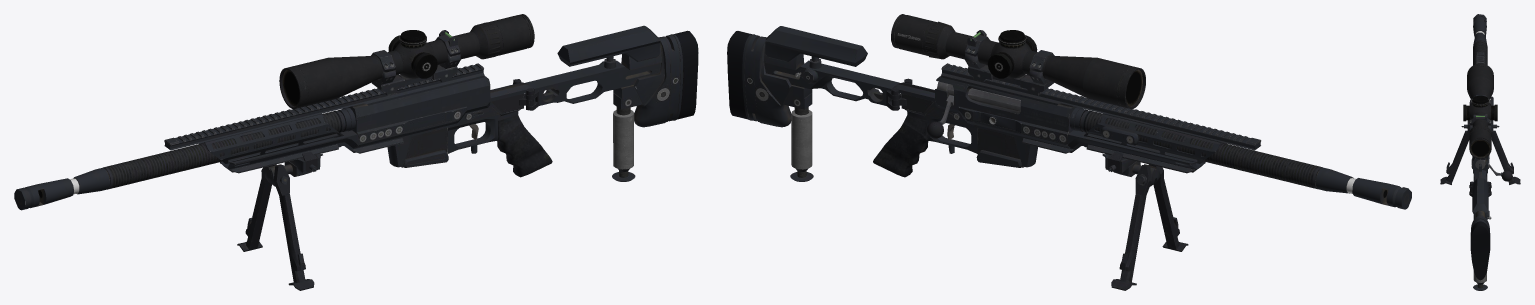
File: silah_pgm.glb
3 renders of one model, left to right at view 1: azimuth 30°, elevation 25°; view 2: azimuth 150°, elevation 25°; view 3: azimuth 270°, elevation 25°, orthographic. The views are drawn at different scales.
Visible parts, largest first — view 1: 03_BackParts_low_4k.004_03_BackParts_low_4k.001_0, 02_MainBody_low_4k.004_02_MainBody_low_4k.001_0, 05_Scope_low_4K.004_05_Scope_low_4K.001_0, 01_GripMagazine_low_4k.004_01_GripMagazine_low_4k.001_0, 04_Barrel_Grid_low_4k.008_04_BarrelRail_low_4k.002_0, 06_SmallParts_low_2k.008_06_SmallParts_low_2k.003_0; view 2: 02_MainBody_low_4k.004_02_MainBody_low_4k.001_0, 03_BackParts_low_4k.004_03_BackParts_low_4k.001_0, 05_Scope_low_4K.004_05_Scope_low_4K.001_0, 01_GripMagazine_low_4k.004_01_GripMagazine_low_4k.001_0, 04_Barrel_Grid_low_4k.008_04_BarrelRail_low_4k.002_0, 06_SmallParts_low_2k.008_06_SmallParts_low_2k.003_0; view 3: 05_Scope_low_4K.004_05_Scope_low_4K.001_0, 03_BackParts_low_4k.004_03_BackParts_low_4k.001_0, 01_GripMagazine_low_4k.004_01_GripMagazine_low_4k.001_0, 04_Barrel_Grid_low_4k.008_04_BarrelRail_low_4k.002_0, 02_MainBody_low_4k.004_02_MainBody_low_4k.001_0, 06_SmallParts_low_2k.008_06_SmallParts_low_2k.003_0.
Boxes of the visible parts, x1,y1,x2,y2 form: 03_BackParts_low_4k.004_03_BackParts_low_4k.001_0: (525,25,698,181); 02_MainBody_low_4k.004_02_MainBody_low_4k.001_0: (164,65,490,169); 05_Scope_low_4K.004_05_Scope_low_4K.001_0: (279,14,534,108); 01_GripMagazine_low_4k.004_01_GripMagazine_low_4k.001_0: (221,82,552,290); 04_Barrel_Grid_low_4k.008_04_BarrelRail_low_4k.002_0: (14,107,355,210); 06_SmallParts_low_2k.008_06_SmallParts_low_2k.003_0: (164,22,616,184); 02_MainBody_low_4k.004_02_MainBody_low_4k.001_0: (926,65,1260,169); 03_BackParts_low_4k.004_03_BackParts_low_4k.001_0: (727,26,899,181); 05_Scope_low_4K.004_05_Scope_low_4K.001_0: (891,14,1145,109); 01_GripMagazine_low_4k.004_01_GripMagazine_low_4k.001_0: (873,82,1204,290); 04_Barrel_Grid_low_4k.008_04_BarrelRail_low_4k.002_0: (1069,107,1411,209); 06_SmallParts_low_2k.008_06_SmallParts_low_2k.003_0: (795,21,1260,185); 05_Scope_low_4K.004_05_Scope_low_4K.001_0: (1463,63,1497,158); 03_BackParts_low_4k.004_03_BackParts_low_4k.001_0: (1470,178,1490,290); 01_GripMagazine_low_4k.004_01_GripMagazine_low_4k.001_0: (1440,120,1520,184); 04_Barrel_Grid_low_4k.008_04_BarrelRail_low_4k.002_0: (1473,14,1487,65); 02_MainBody_low_4k.004_02_MainBody_low_4k.001_0: (1471,56,1512,181); 06_SmallParts_low_2k.008_06_SmallParts_low_2k.003_0: (1461,52,1502,219).
Size of the model in its own units: 4.98 by 1.4 by 0.8062.
Materials: 6 (6 with a texture image).
